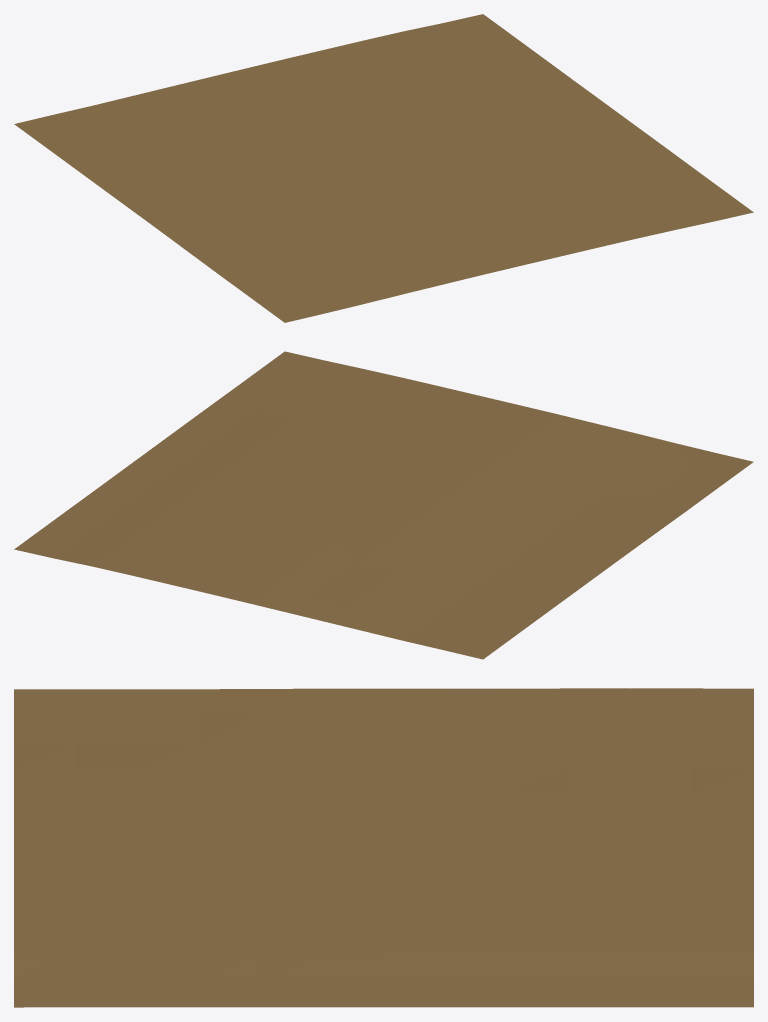
Rendered from chunk_2_-2.obj.
The picture shows the model from 3 angles, top to bottom: view 1: azimuth 30°, elevation 25°; view 2: azimuth 150°, elevation 25°; view 3: azimuth 270°, elevation 25°; orthographic projection. The views are drawn at different scales.
Parts seen in each view (by area): view 1: chunk_2_-2; view 2: chunk_2_-2; view 3: chunk_2_-2.
Boxes of the visible parts, x1=… form: chunk_2_-2: x1=14, y1=14, x2=753, y2=322; chunk_2_-2: x1=14, y1=351, x2=753, y2=659; chunk_2_-2: x1=14, y1=688, x2=753, y2=1007.
Size of the model in its own units: 16 by 0.1498 by 16.
